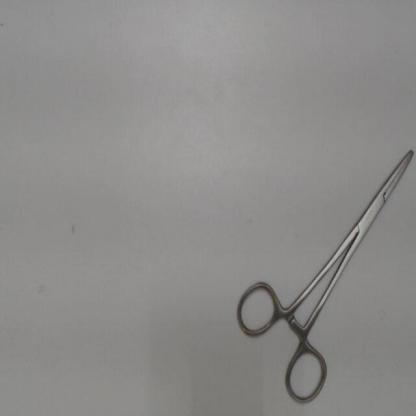Mayo Needle Holder: (229, 138, 415, 412)
